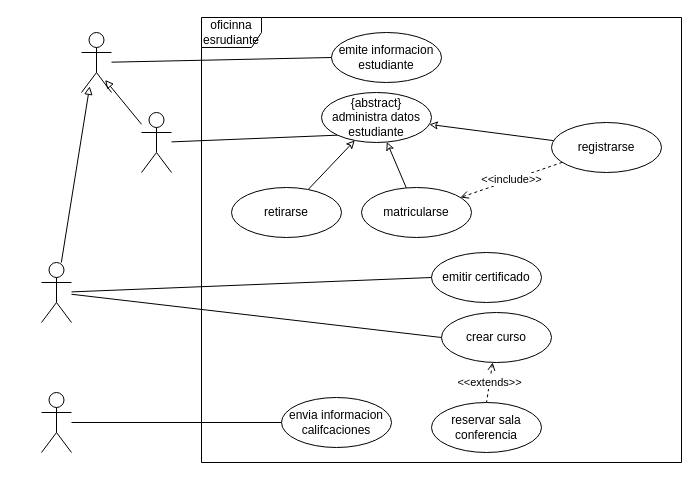
The diagram is 699 pixels wide and 491 high, and some of its shapes have lost their labels. The box of each missing label's shape, as (x1, y1, x2, y2) in pixels:
Empleado: (80, 32, 112, 92)
Empleado Administración: (40, 262, 72, 322)
Empleado Servicio: (140, 112, 172, 172)
Profesor: (40, 392, 72, 452)
